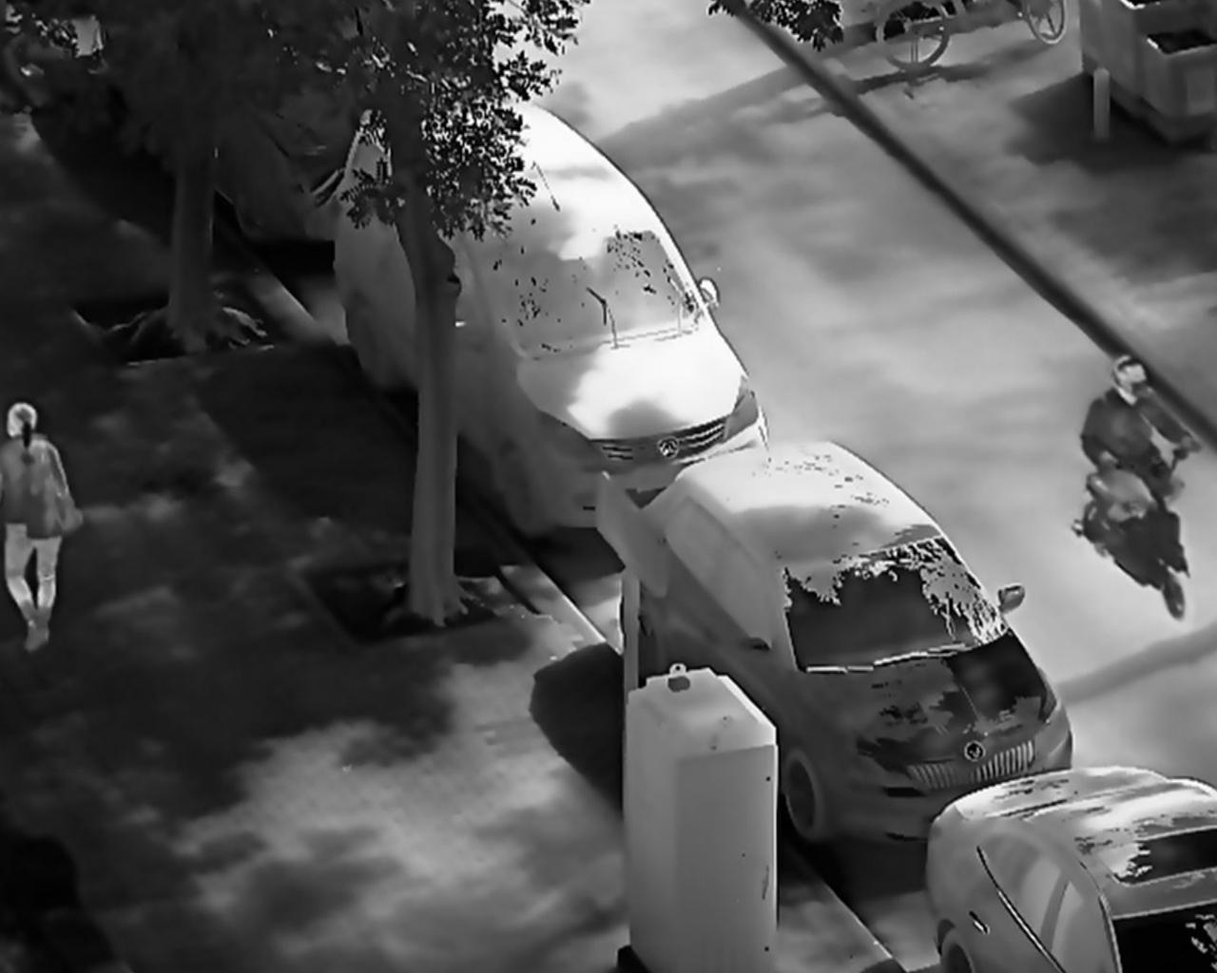person: (1078, 351, 1203, 550), (2, 397, 87, 658)
